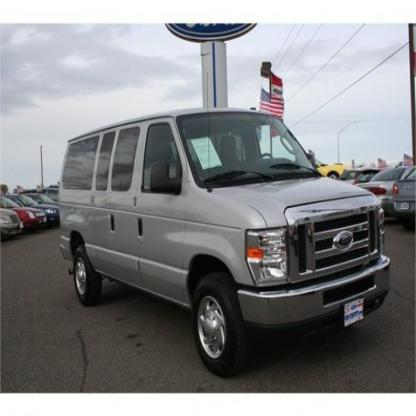Vehicle: (54, 102, 395, 380)
